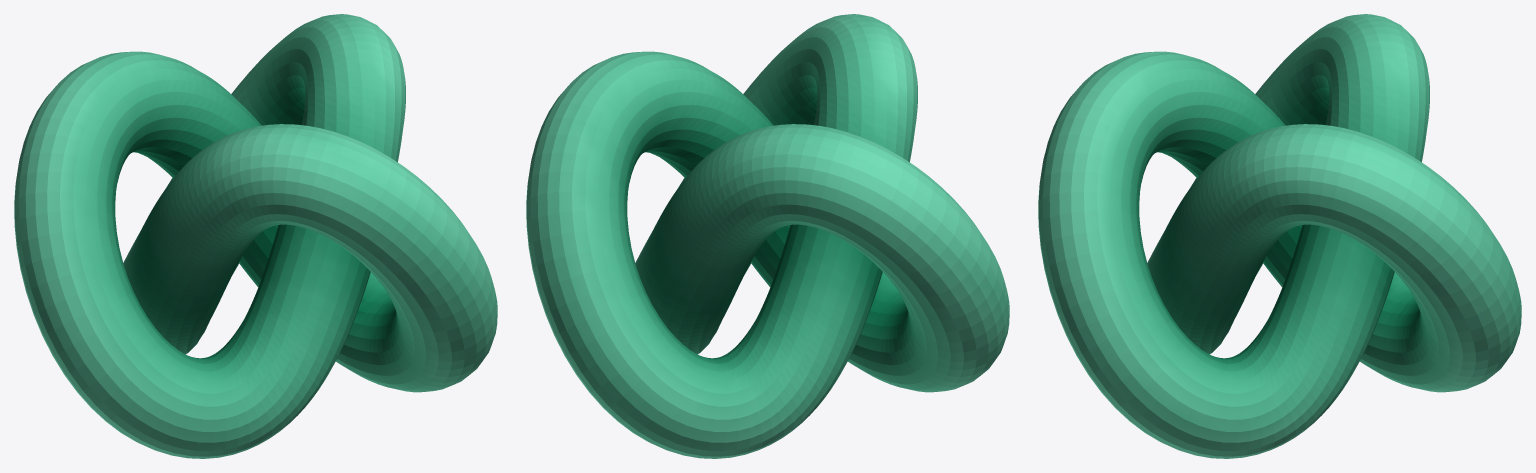
The model's file is texturedknot11KC.obj.
3 views of the same model, side by side, from view 1: azimuth 30°, elevation 25°; view 2: azimuth 150°, elevation 25°; view 3: azimuth 270°, elevation 25° (orthographic).
Bounding box in the file's own units: 170 × 132 × 179.
